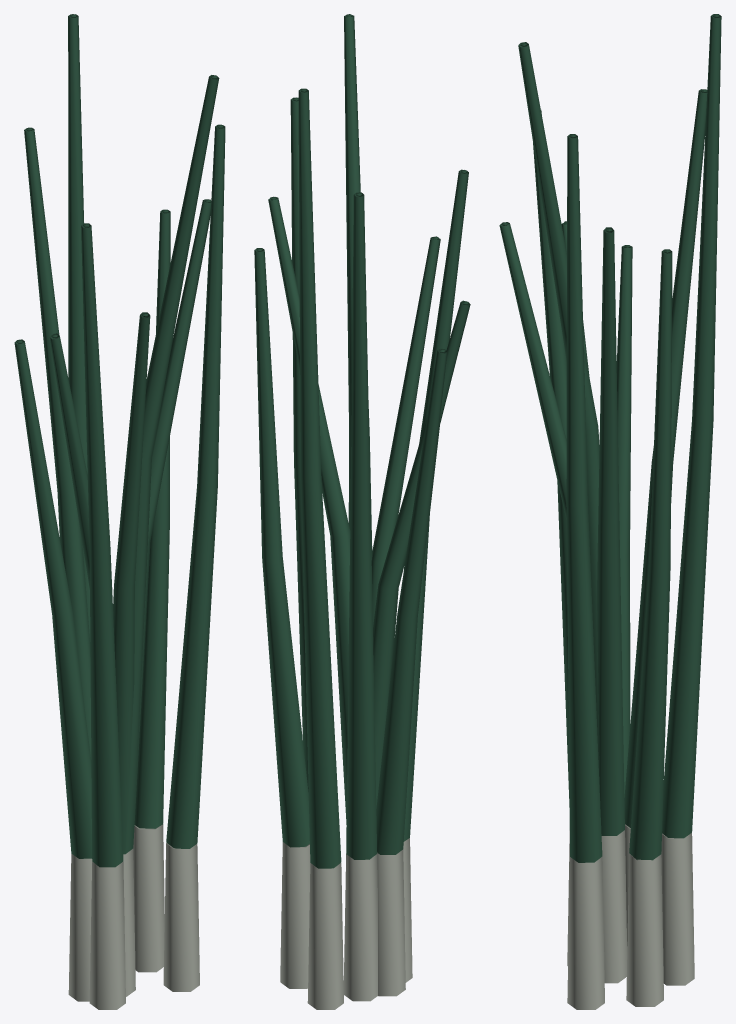
The model's file is cebolla_blanca.glb.
The picture shows the model from 3 angles, left to right: view 1: azimuth 30°, elevation 25°; view 2: azimuth 150°, elevation 25°; view 3: azimuth 270°, elevation 25°; orthographic projection. The views are drawn at different scales.
Visible parts, largest first — view 1: cebolla_blanca; view 2: cebolla_blanca; view 3: cebolla_blanca.
Part boxes in pixels (x1,y1,x2,y2): cebolla_blanca: [14, 14, 225, 1009]; cebolla_blanca: [254, 14, 470, 1009]; cebolla_blanca: [499, 14, 721, 1009].
Size of the model in its own units: 0.1656 by 0.7911 by 0.165.
